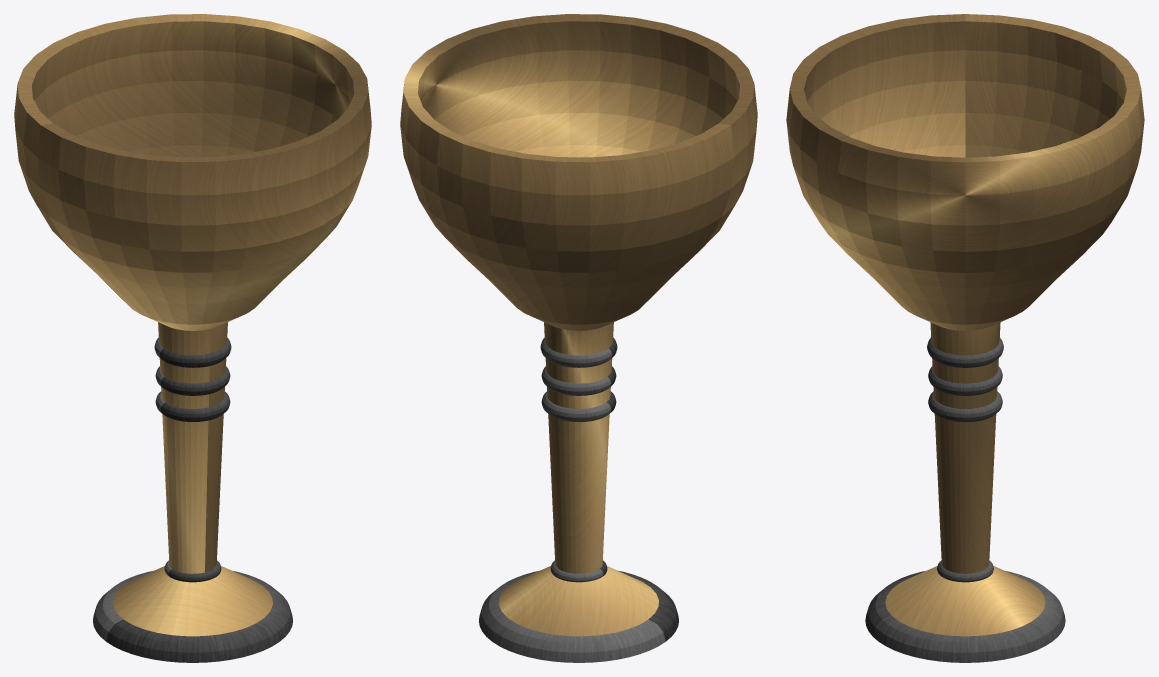
Rendered from Goblet.glb.
3 views of the same model, side by side, from view 1: azimuth 30°, elevation 25°; view 2: azimuth 150°, elevation 25°; view 3: azimuth 270°, elevation 25° (orthographic).
Visible parts, largest first — view 1: Sphere, Cylinder, Cone, Torus.004, Torus, Torus.002, Torus.001, Torus.003; view 2: Sphere, Cylinder, Cone, Torus.004, Torus, Torus.002, Torus.001, Torus.003; view 3: Sphere, Cylinder, Cone, Torus.004, Torus, Torus.002, Torus.001, Torus.003.
Part boxes in pixels (left/top/right/bottom): Sphere: left=14, top=14, right=371, bottom=330; Cylinder: left=158, top=322, right=227, bottom=573; Cone: left=113, top=566, right=272, bottom=636; Torus.004: left=93, top=570, right=292, bottom=662; Torus: left=155, top=391, right=230, bottom=421; Torus.002: left=154, top=338, right=231, bottom=367; Torus.001: left=155, top=366, right=230, bottom=395; Torus.003: left=164, top=560, right=221, bottom=582; Sphere: left=400, top=14, right=757, bottom=330; Cylinder: left=544, top=322, right=613, bottom=573; Cone: left=499, top=566, right=658, bottom=636; Torus.004: left=479, top=570, right=678, bottom=662; Torus: left=541, top=391, right=616, bottom=421; Torus.002: left=540, top=338, right=617, bottom=367; Torus.001: left=541, top=366, right=616, bottom=395; Torus.003: left=550, top=560, right=607, bottom=582; Sphere: left=786, top=14, right=1144, bottom=330; Cylinder: left=930, top=322, right=1000, bottom=573; Cone: left=885, top=566, right=1045, bottom=636; Torus.004: left=865, top=571, right=1065, bottom=662; Torus: left=928, top=391, right=1002, bottom=422; Torus.002: left=927, top=337, right=1003, bottom=367; Torus.001: left=928, top=366, right=1002, bottom=395; Torus.003: left=937, top=560, right=993, bottom=582.
Bounding box in the file's own units: 1.72 × 2.82 × 1.72.
8 materials, 8 textured.
